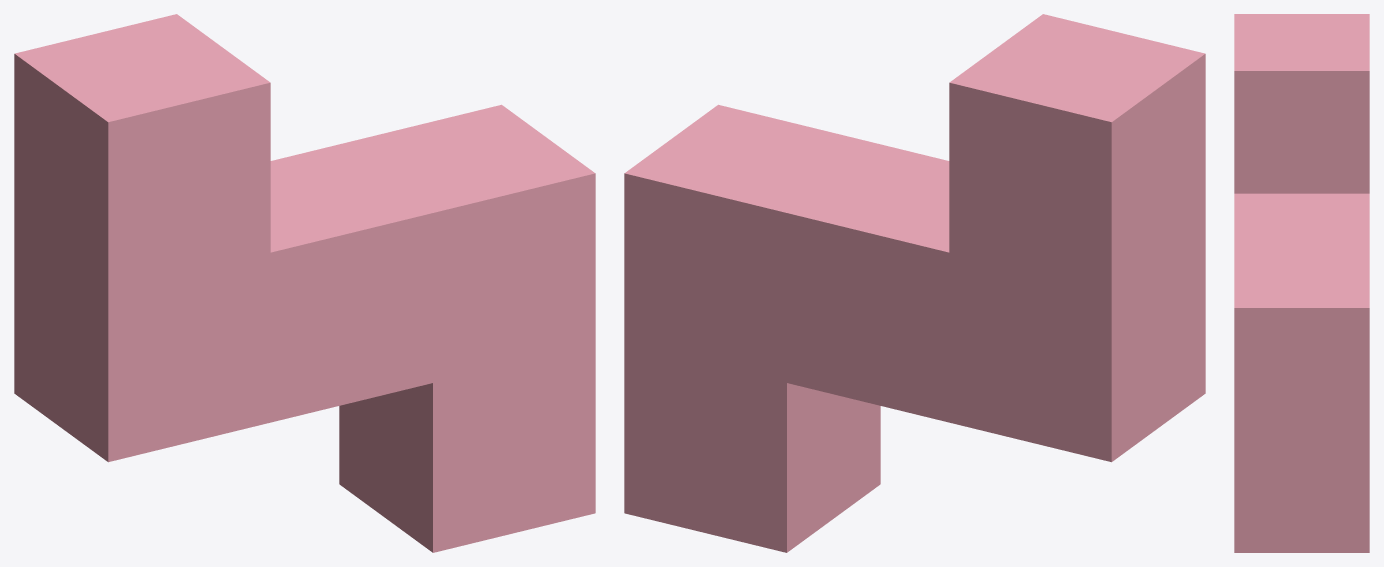
Rendered from six.obj.
The picture shows the model from 3 angles, left to right: view 1: azimuth 30°, elevation 25°; view 2: azimuth 150°, elevation 25°; view 3: azimuth 270°, elevation 25°; orthographic projection. The views are drawn at different scales.
Parts seen in each view (by area): view 1: six; view 2: six; view 3: six.
Boxes of the visible parts, x1,y1,x2,y2 form: six: [14, 14, 595, 552]; six: [624, 14, 1205, 552]; six: [1234, 14, 1369, 552].
Size of the model in its own units: 3 by 3 by 1.
1 material, 1 textured.
